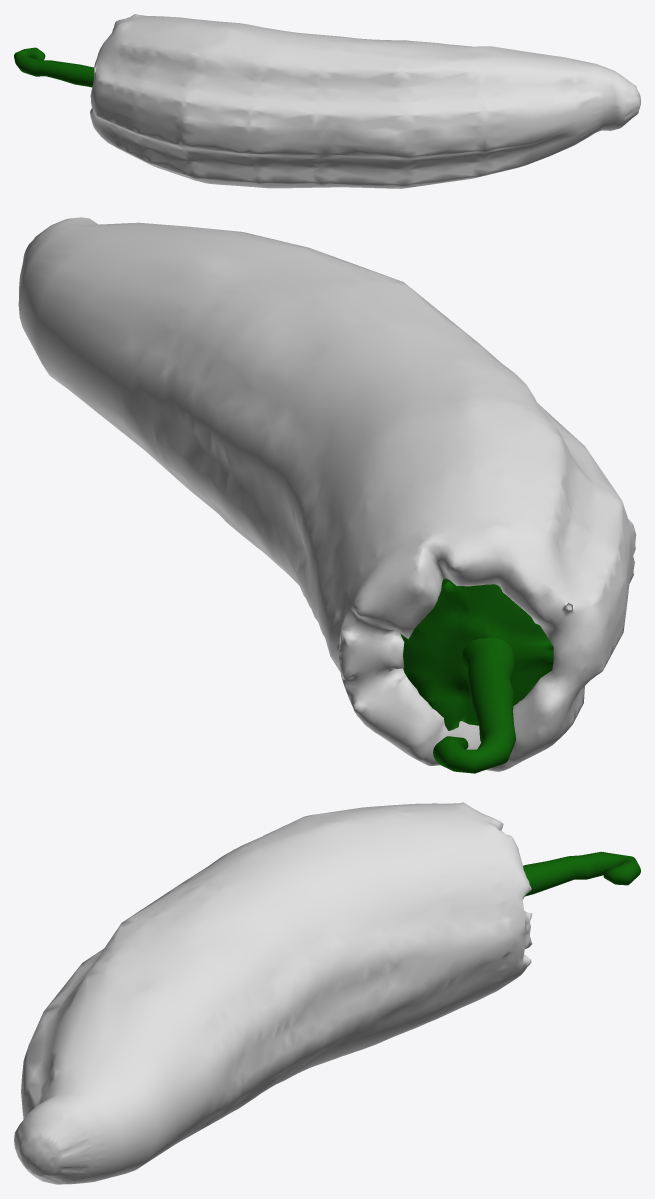
The model's file is Sweet_Pepper.fbx.
The picture shows the model from 3 angles, top to bottom: view 1: azimuth 30°, elevation 25°; view 2: azimuth 150°, elevation 25°; view 3: azimuth 270°, elevation 25°; orthographic projection. The views are drawn at different scales.
Parts seen in each view (by area): view 1: Sweet Pepper; view 2: Sweet Pepper; view 3: Sweet Pepper.
Boxes of the visible parts, x1,y1,x2,y2 form: Sweet Pepper: (14, 14, 640, 188); Sweet Pepper: (18, 217, 636, 773); Sweet Pepper: (14, 802, 640, 1184).
Bounding box in the file's own units: 35.29 × 11.8 × 30.52.
